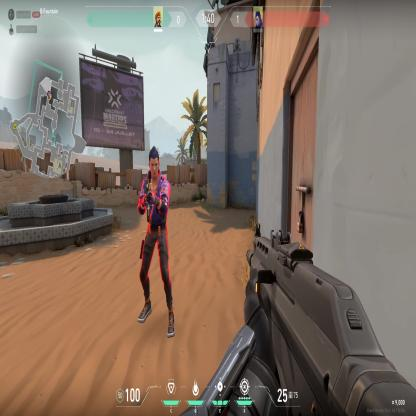enemy: (132, 142, 180, 340)
